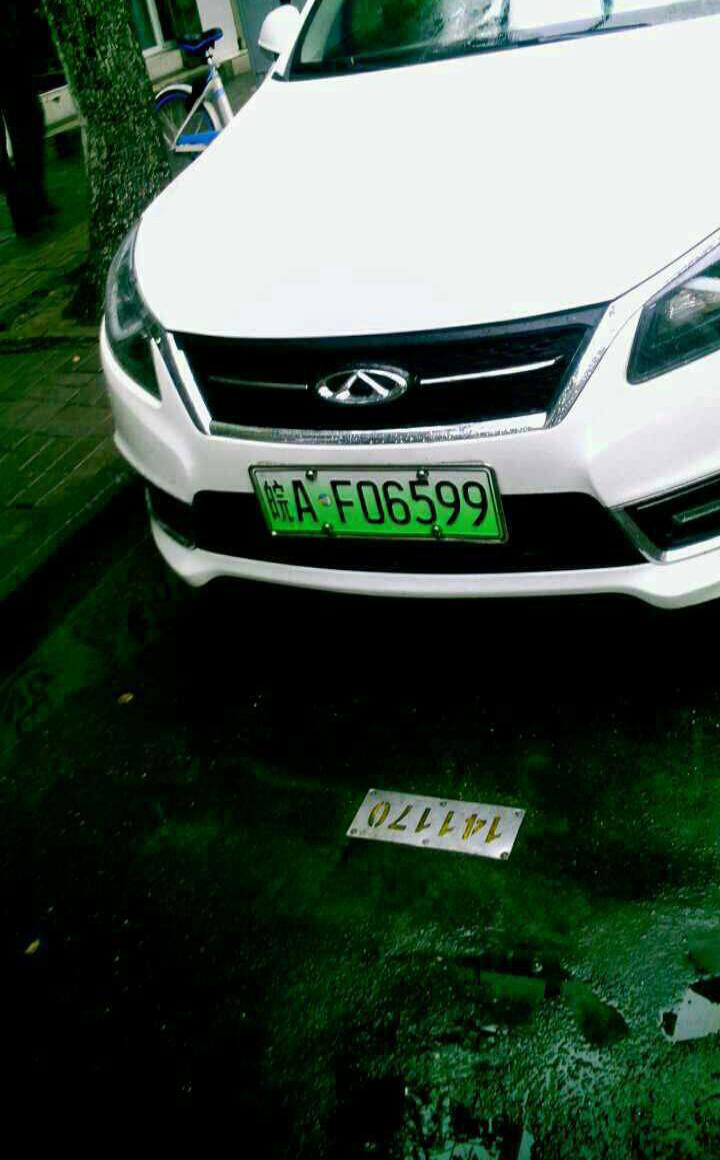car_id: (252, 468, 502, 537)
